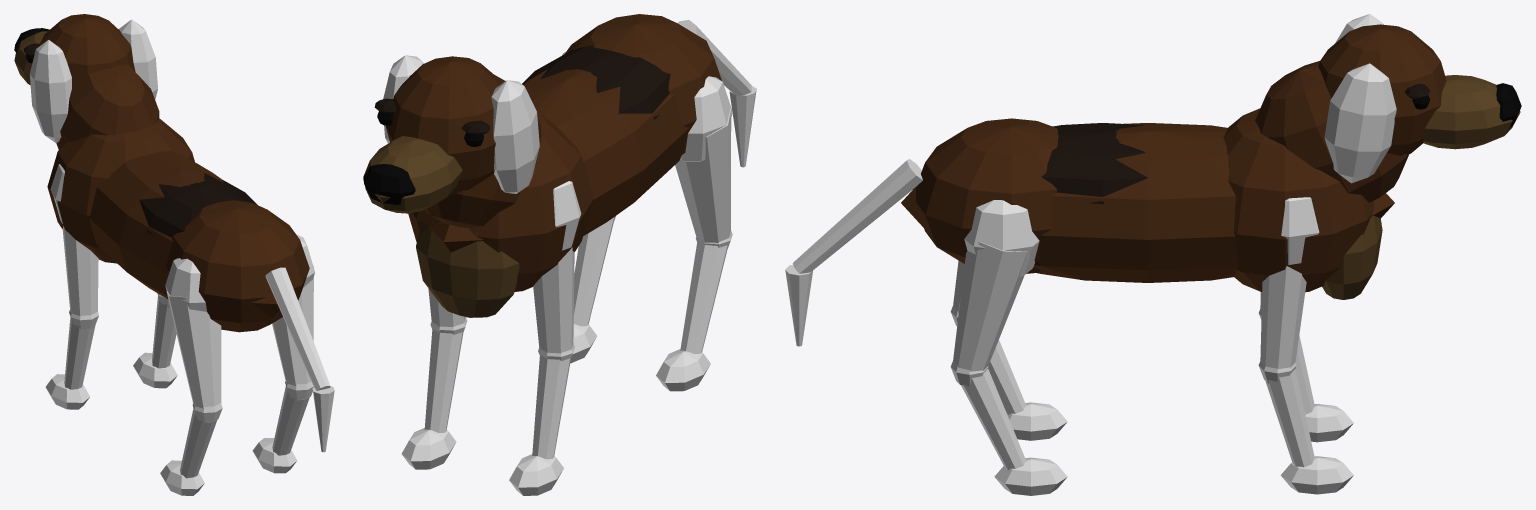
File: DogLarge.fbx
3 views of the same model, side by side, from view 1: azimuth 30°, elevation 25°; view 2: azimuth 150°, elevation 25°; view 3: azimuth 270°, elevation 25° (orthographic). The views are drawn at different scales.
Parts seen in each view (by area): view 1: DogBody__Plain.002, DogHead__Plain.002, DogLegBLUpper__Plain.002, DogEarL__Plain.002, DogLegFLUpper__Plain.002, DogTailA__Plain.002, DogLegBRUpper__Plain.002, DogLegFLLower__Plain.002, DogLegBLLower__Plain.002, DogLegBRLower__Plain.002, DogEarR__Plain.002, DogLegFRLower__Plain.002 (+5 smaller); view 2: DogBody__Plain.002, DogHead__Plain.002, DogLegBLUpper__Plain.002, DogLegFLUpper__Plain.002, DogEarL__Plain.002, DogLegBLLower__Plain.002, DogLegFRLower__Plain.002, DogLegFLLower__Plain.002, DogLegBRLower__Plain.002, DogPawBL__Plain.002, DogPawFR__Plain.002, DogPawFL__Plain.002 (+5 smaller); view 3: DogBody__Plain.002, DogHead__Plain.002, DogLegBRUpper__Plain.002, DogEarR__Plain.002, DogLegFRUpper__Plain.002, DogTailA__Plain.002, DogLegBRLower__Plain.002, DogLegFRLower__Plain.002, DogPawBR__Plain.002, DogPawFR__Plain.002, DogPawBL__Plain.002, DogLegBLLower__Plain.002 (+2 smaller).
Part boxes in pixels (x1=…): DogBody__Plain.002: x1=47, y1=118, x2=309, y2=332; DogHead__Plain.002: x1=14, y1=14, x2=159, y2=149; DogLegBLUpper__Plain.002: x1=165, y1=258, x2=221, y2=408; DogEarL__Plain.002: x1=29, y1=40, x2=71, y2=143; DogLegFLUpper__Plain.002: x1=50, y1=164, x2=98, y2=315; DogTailA__Plain.002: x1=265, y1=267, x2=330, y2=390; DogLegBRUpper__Plain.002: x1=272, y1=234, x2=314, y2=385; DogLegFLLower__Plain.002: x1=64, y1=310, x2=98, y2=389; DogLegBLLower__Plain.002: x1=180, y1=403, x2=222, y2=478; DogLegBRLower__Plain.002: x1=272, y1=381, x2=313, y2=455; DogEarR__Plain.002: x1=118, y1=19, x2=157, y2=99; DogLegFRLower__Plain.002: x1=152, y1=293, x2=176, y2=368; DogBody__Plain.002: x1=408, y1=14, x2=721, y2=317; DogHead__Plain.002: x1=363, y1=56, x2=541, y2=227; DogLegBLUpper__Plain.002: x1=675, y1=76, x2=732, y2=242; DogLegFLUpper__Plain.002: x1=533, y1=181, x2=581, y2=353; DogEarL__Plain.002: x1=491, y1=80, x2=539, y2=193; DogLegBLLower__Plain.002: x1=680, y1=230, x2=732, y2=353; DogLegFRLower__Plain.002: x1=424, y1=317, x2=467, y2=432; DogLegFLLower__Plain.002: x1=532, y1=343, x2=574, y2=459; DogLegBRLower__Plain.002: x1=573, y1=216, x2=615, y2=326; DogPawBL__Plain.002: x1=656, y1=349, x2=710, y2=391; DogPawFR__Plain.002: x1=401, y1=428, x2=456, y2=469; DogPawFL__Plain.002: x1=509, y1=454, x2=563, y2=495; DogBody__Plain.002: x1=901, y1=108, x2=1394, y2=299; DogHead__Plain.002: x1=1255, y1=24, x2=1521, y2=202; DogLegBRUpper__Plain.002: x1=953, y1=200, x2=1039, y2=371; DogEarR__Plain.002: x1=1324, y1=63, x2=1396, y2=183; DogLegFRUpper__Plain.002: x1=1260, y1=197, x2=1319, y2=369; DogTailA__Plain.002: x1=792, y1=159, x2=922, y2=273; DogLegBRLower__Plain.002: x1=950, y1=361, x2=1025, y2=469; DogLegFRLower__Plain.002: x1=1258, y1=361, x2=1314, y2=467; DogPawBR__Plain.002: x1=994, y1=457, x2=1067, y2=495; DogPawFR__Plain.002: x1=1280, y1=456, x2=1353, y2=494; DogPawBL__Plain.002: x1=1007, y1=402, x2=1067, y2=440; DogLegBLLower__Plain.002: x1=950, y1=305, x2=1025, y2=414.
Size of the model in its own units: 0.4442 by 1.07 by 1.63.
